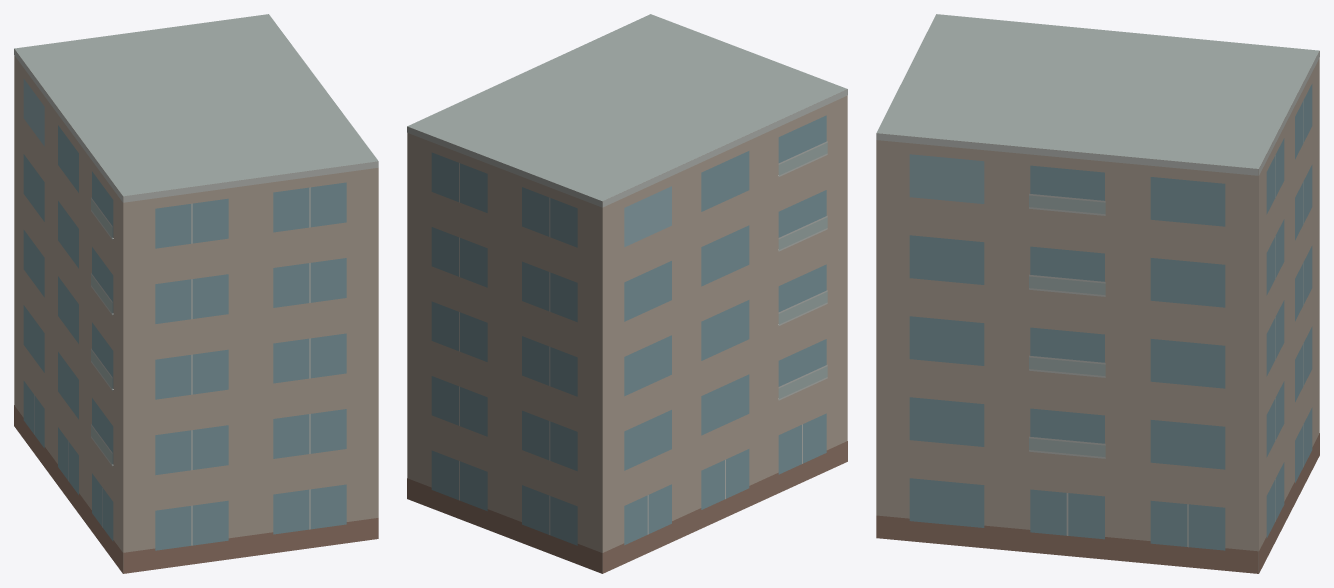
The model's file is survey-upis-32850264.glb.
3 renders of one model, left to right at view 1: azimuth 30°, elevation 25°; view 2: azimuth 150°, elevation 25°; view 3: azimuth 270°, elevation 25°, orthographic. The views are drawn at different scales.
Visible parts, largest first — view 1: survey-upis-32850264.tmp; view 2: survey-upis-32850264.tmp; view 3: survey-upis-32850264.tmp.
Boxes of the visible parts, x1,y1,x2,y2 form: survey-upis-32850264.tmp: (14, 14, 378, 573); survey-upis-32850264.tmp: (407, 14, 847, 573); survey-upis-32850264.tmp: (876, 14, 1319, 573).
Bounding box in the file's own units: 11.79 × 14.35 × 14.25.
